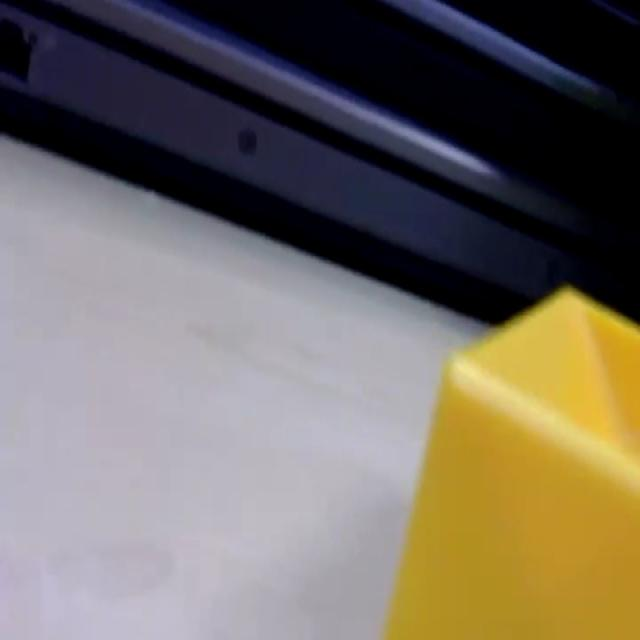yellow_block: (382, 281, 638, 636)
